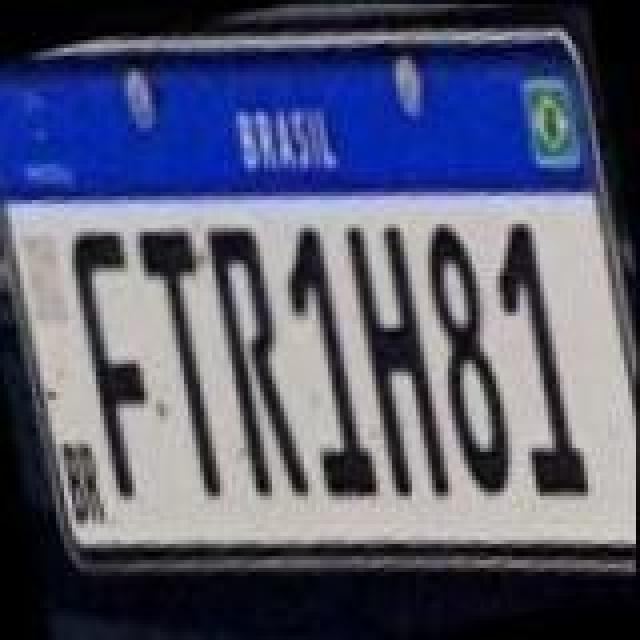1: (480, 212, 592, 508), (276, 218, 380, 506)
8: (408, 208, 520, 504)
F: (66, 214, 174, 502)
H: (338, 210, 454, 510)
R: (200, 212, 312, 508)
T: (130, 214, 238, 502)
